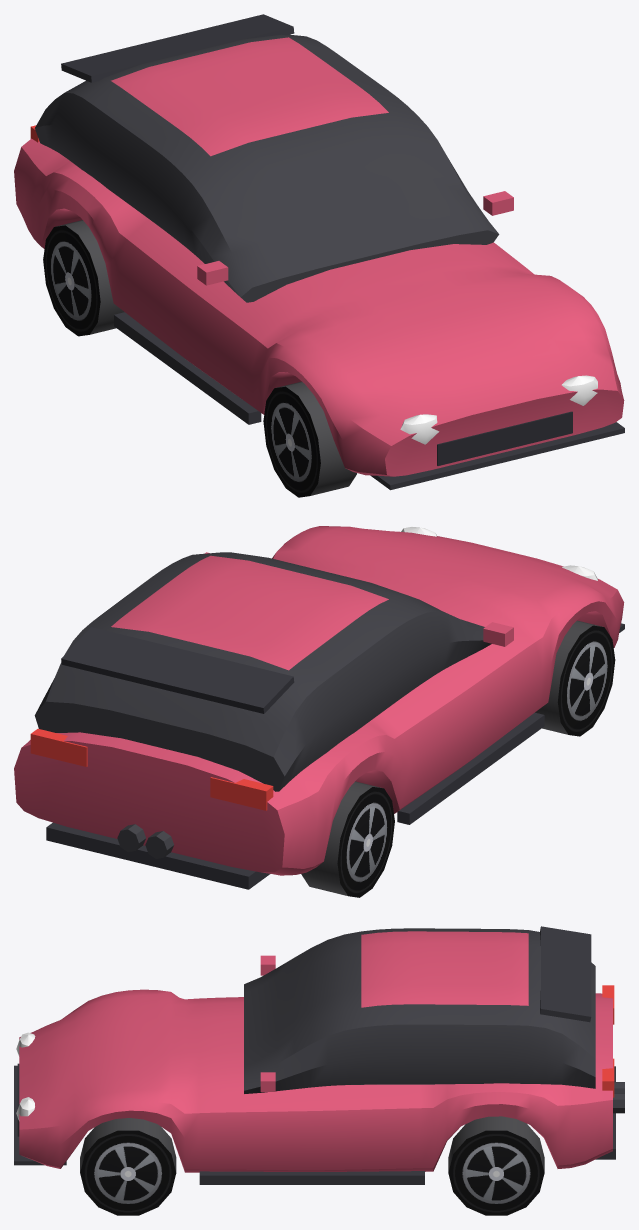
File: car_zip.glb
3 views of the same model, one above another, from view 1: azimuth 30°, elevation 25°; view 2: azimuth 150°, elevation 25°; view 3: azimuth 270°, elevation 25° (orthographic). The views are drawn at different scales.
Visible parts, largest first — view 1: Car; view 2: Car; view 3: Car.
Part boxes in pixels (x1,y1,x2,y2): Car: (14, 14, 624, 497); Car: (14, 526, 624, 897); Car: (14, 926, 624, 1215).
Bounding box in the file's own units: 1.98 × 1.41 × 4.07.
3 materials, 1 textured.
